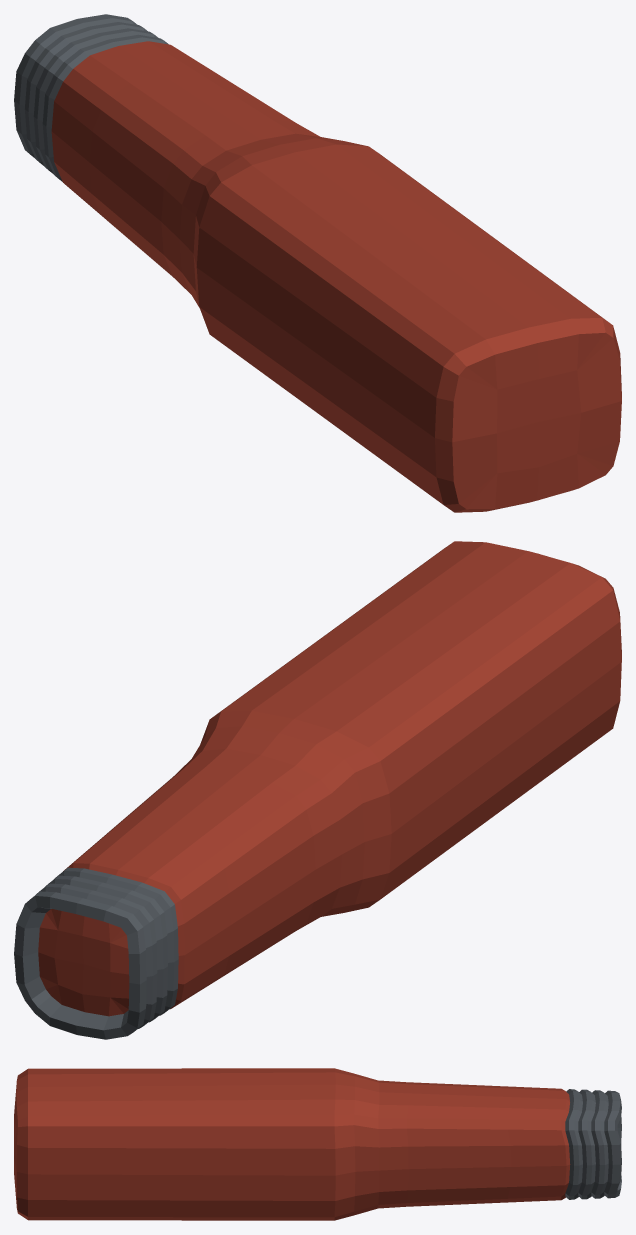
The model's file is Mothership_02_Central_Body_Red.fbx.
3 renders of one model, top to bottom at view 1: azimuth 30°, elevation 25°; view 2: azimuth 150°, elevation 25°; view 3: azimuth 270°, elevation 25°, orthographic. The views are drawn at different scales.
Visible parts, largest first — view 1: Mothership_02_Central_Body_Red; view 2: Mothership_02_Central_Body_Red; view 3: Mothership_02_Central_Body_Red.
Part boxes in pixels (<box>): Mothership_02_Central_Body_Red: <box>14,14,621,512</box>; Mothership_02_Central_Body_Red: <box>14,541,621,1039</box>; Mothership_02_Central_Body_Red: <box>14,1068,621,1220</box>.
Size of the model in its own units: 984 by 881 by 4050.
Materials: 1 (1 with a texture image).
